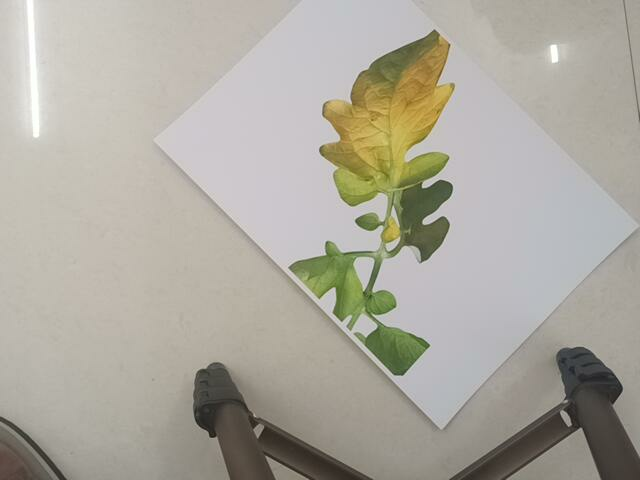Tomamto_Yellow_Disease: (298, 21, 457, 383)
